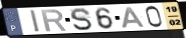0: (145, 5, 164, 28)
6: (94, 6, 115, 30)
A: (121, 6, 146, 29)
I: (29, 9, 42, 33)
R: (40, 9, 68, 32)
S: (69, 7, 94, 32)
